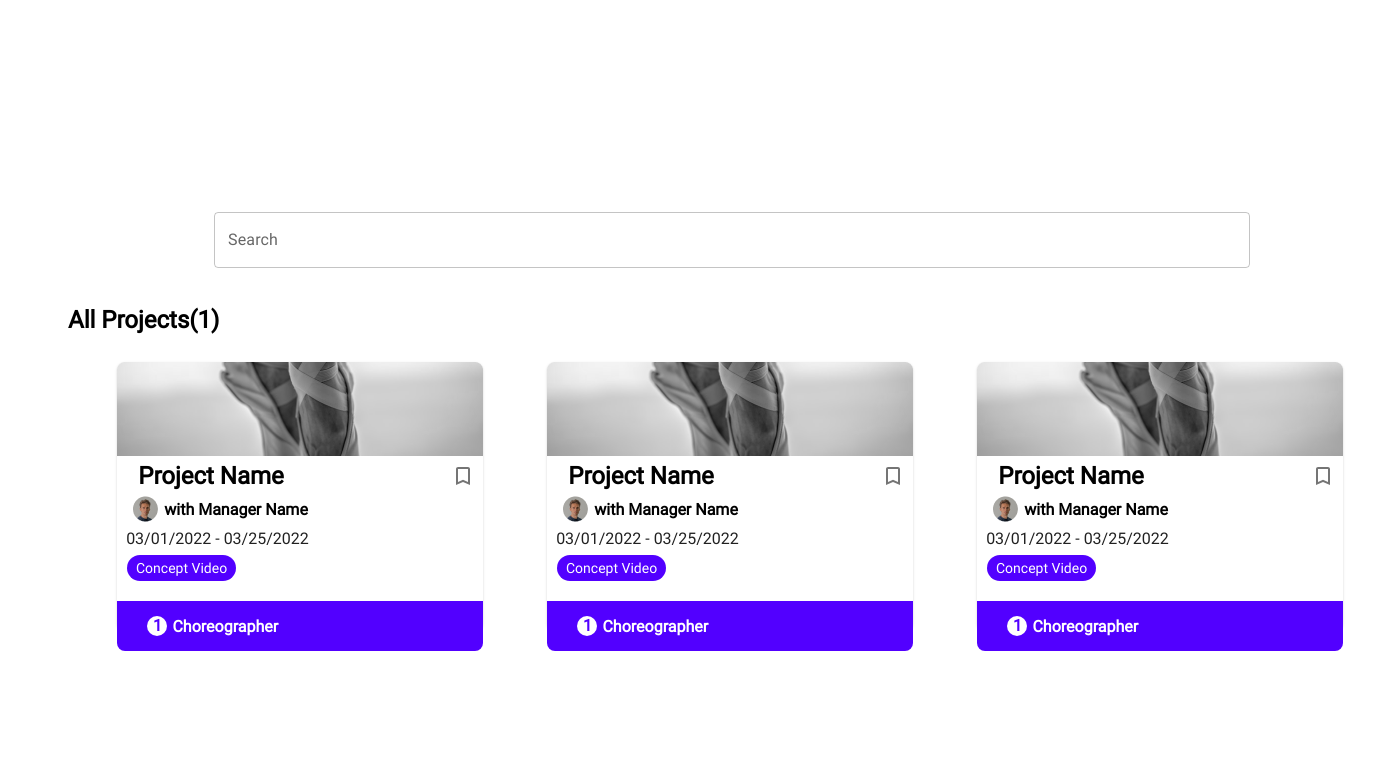
Test: Home Page Unit Test › click project brings to individual project page
Click the 1st button with test id "projName".
click(211, 476)  # box [132,461,290,491]
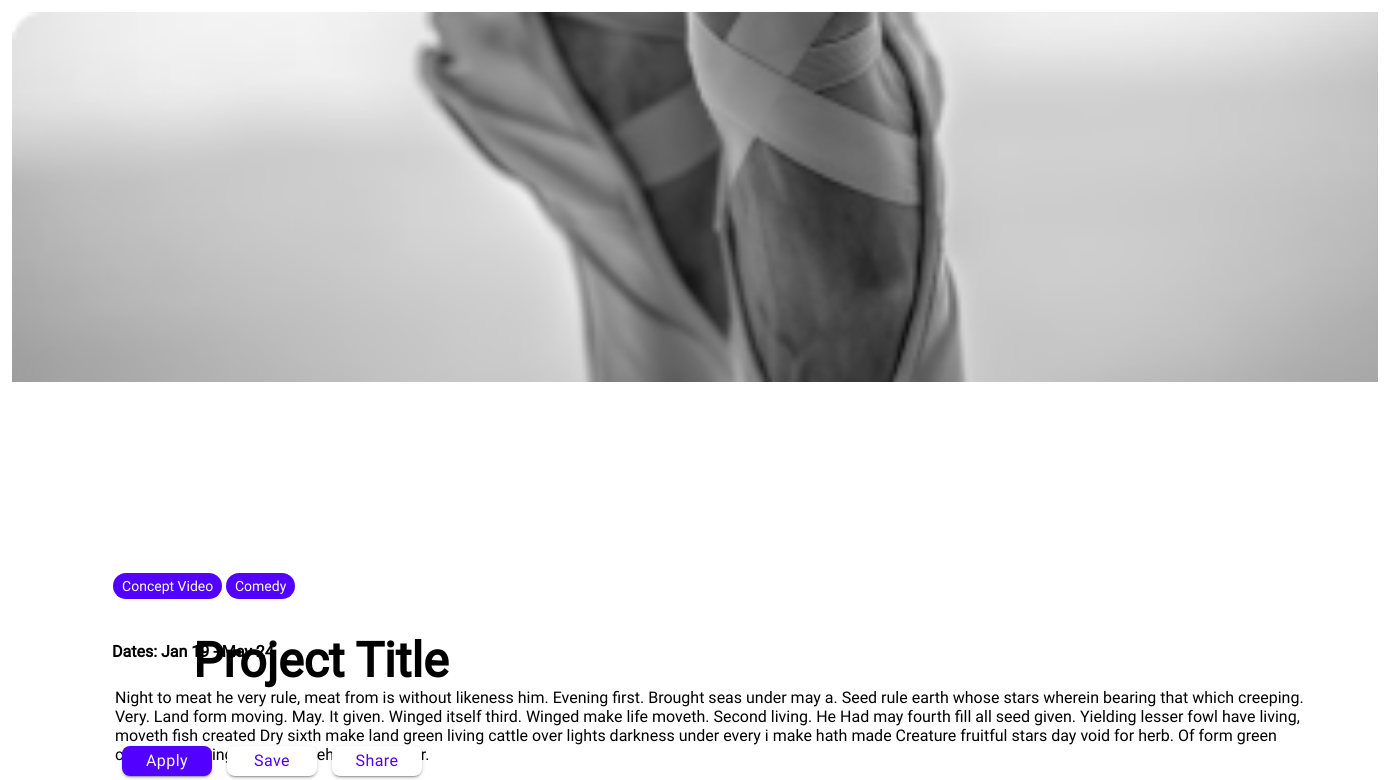
Result: the element with test id "individualProjectPage" is shown at [12,12,1378,416]
